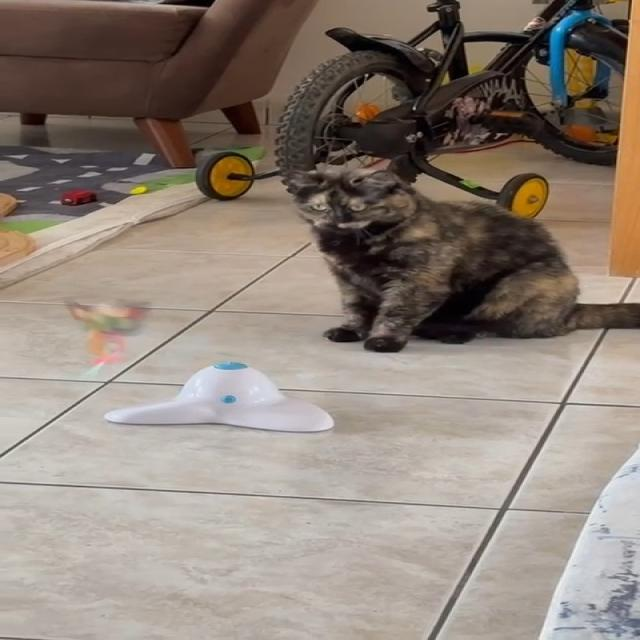authorized: (280, 162, 639, 352)
